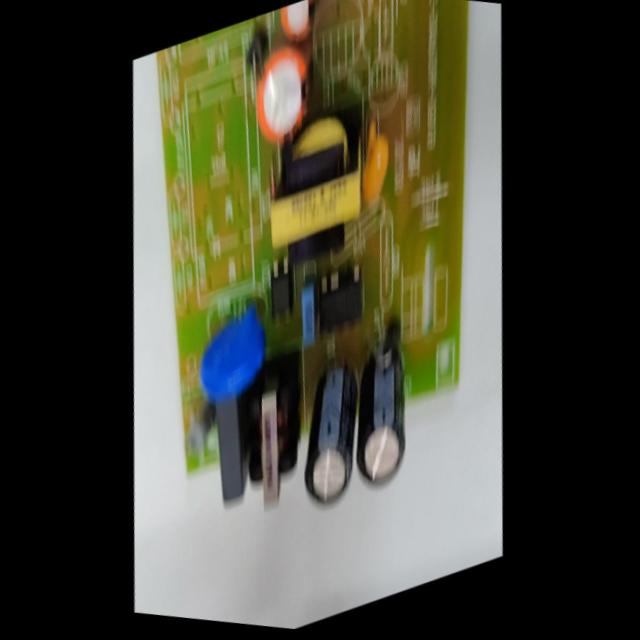Cap1: (237, 23, 329, 169)
Cap2: (270, 0, 332, 57)
Cap3: (280, 348, 378, 532)
Cap4: (331, 324, 430, 510)
MOSFET: (306, 248, 378, 356)
Mov: (181, 285, 283, 425)
Transformer: (249, 99, 385, 296), (224, 368, 319, 535)
